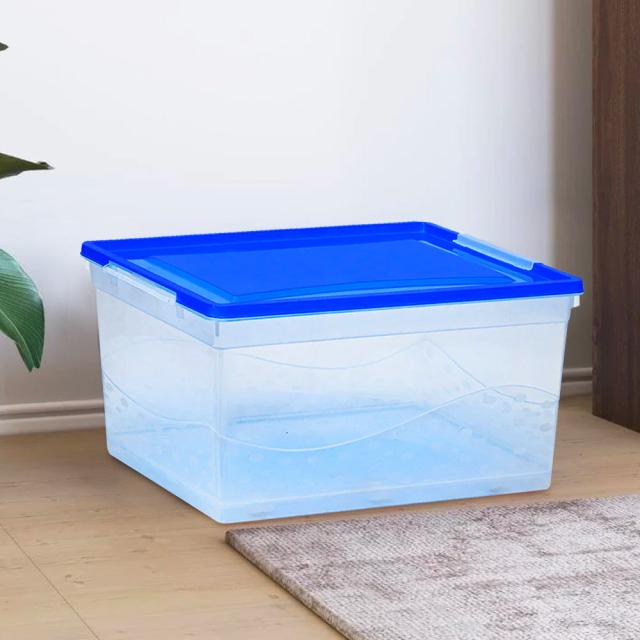plastic_box: (72, 177, 623, 570)
